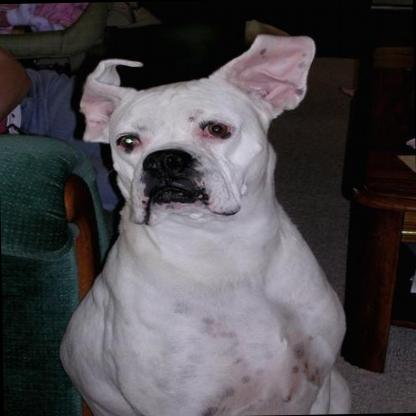boxer: (54, 30, 350, 416)
